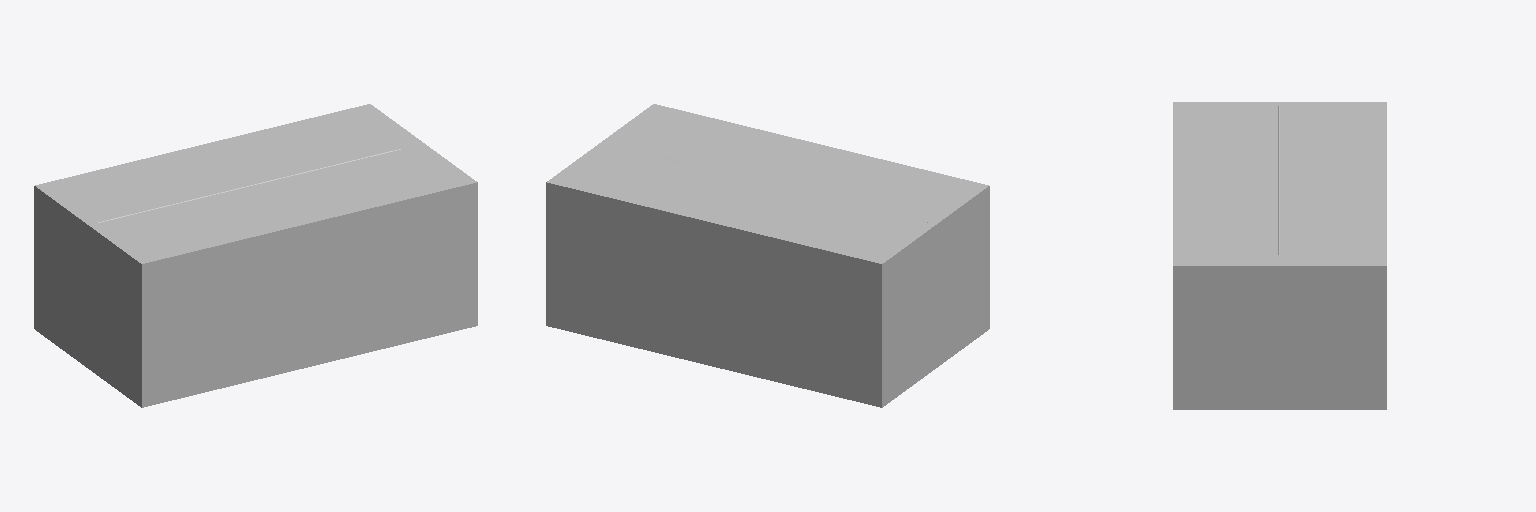
The model's file is cottage.obj.
The picture shows the model from 3 angles: view 1: azimuth 30°, elevation 25°; view 2: azimuth 150°, elevation 25°; view 3: azimuth 270°, elevation 25°; orthographic projection.
Visible parts, largest first — view 1: Cube.001; view 2: Cube.001; view 3: Cube.001.
Part boxes in pixels (x1,y1,x2,y2): Cube.001: (34, 104, 477, 407); Cube.001: (546, 104, 989, 407); Cube.001: (1173, 102, 1386, 409).
Size of the model in its own units: 35.57 by 14.67 by 19.7.